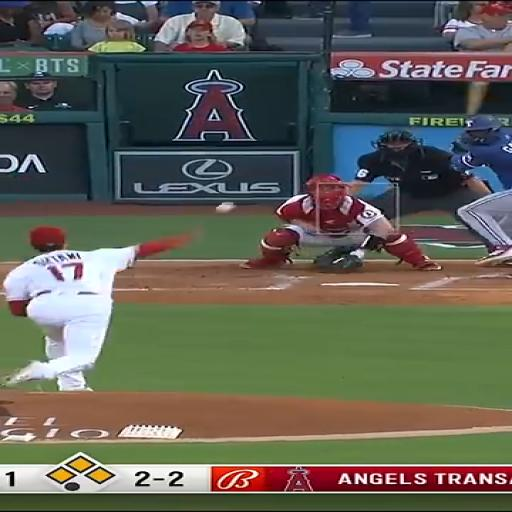bat: (466, 82, 489, 115)
